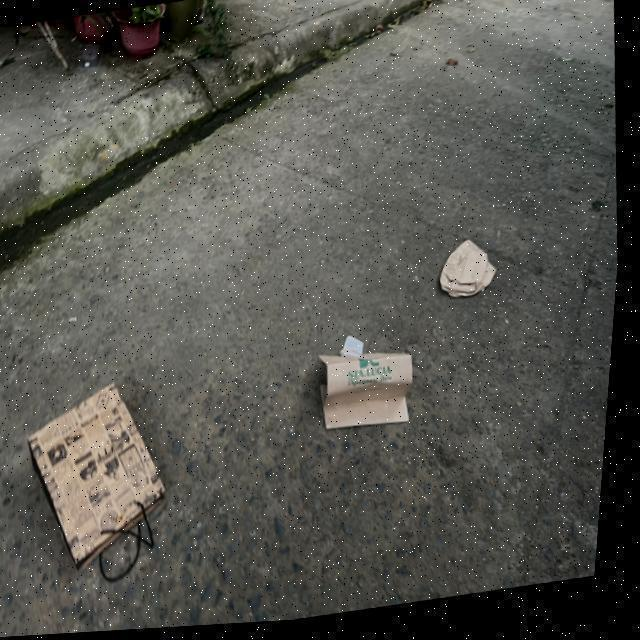Paper_Bag: (22, 374, 190, 595), (318, 332, 429, 438), (440, 240, 503, 308)
